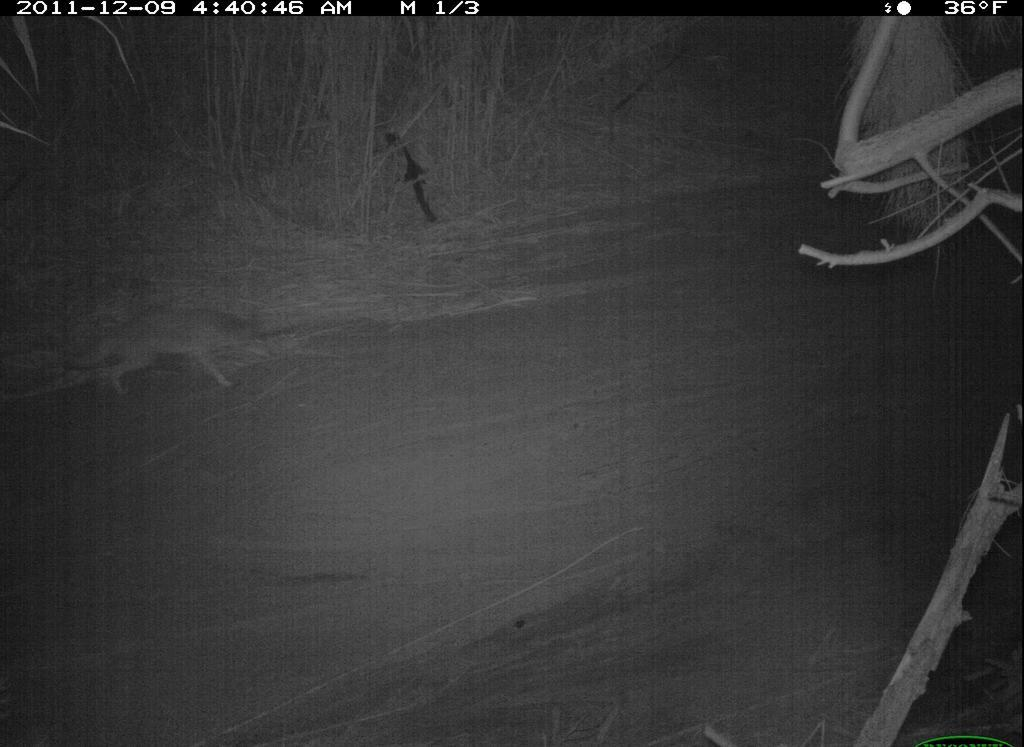coyote: (53, 301, 281, 408)
